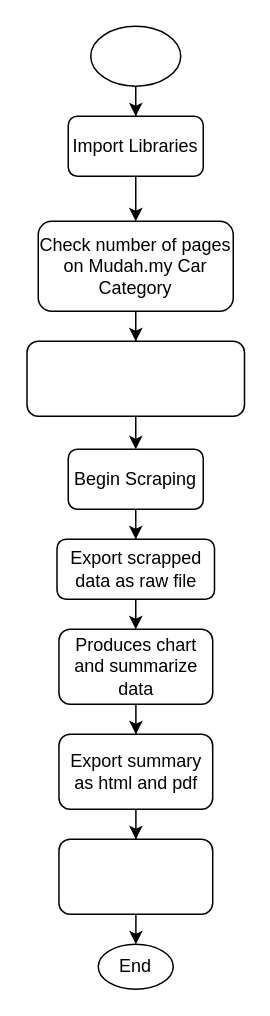
Image size: 270x1016. Some labels were removed from this diagram. Each missing label, with the centre of its shape:
"Automatically send out an email to mailing list" belongs at (x=135, y=876).
"Define data to scrape with their html tags" belongs at (x=135, y=378).
"Start" belongs at (x=135, y=55).
